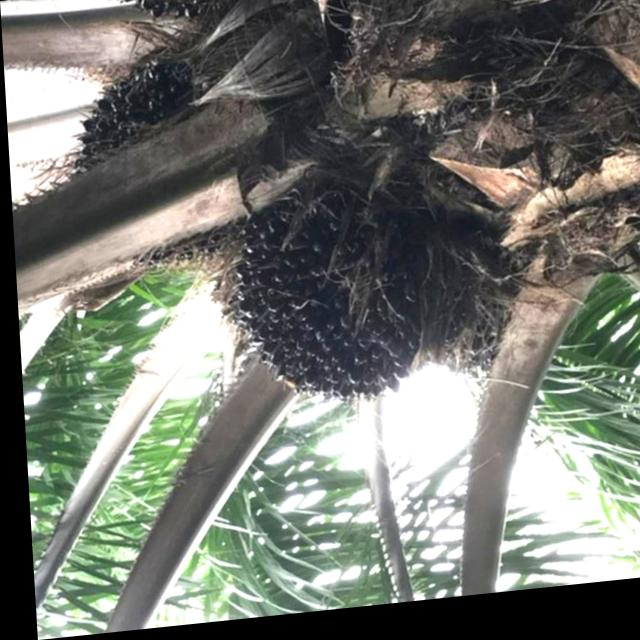almost: (204, 169, 437, 435)
